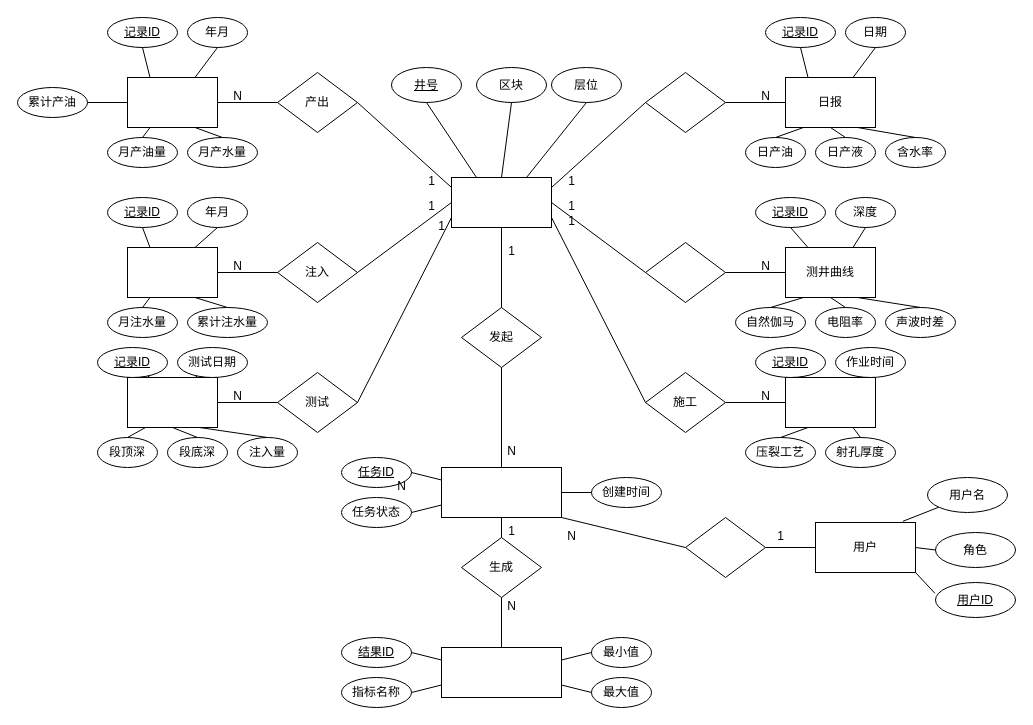
Image size: 1033x725. Some labels were removed from this diagram. The shapes that lost their labels are listed below. From the top down, each one's centre as x and y in pixels, then its label:
the point at 172,102: 油井月报
the point at 685,102: 生产
the point at 501,202: 井位信息
the point at 172,272: 水井月报
the point at 685,272: 测井
the point at 172,402: 剖面数据
the point at 830,402: 作业信息
the point at 501,492: 预测任务
the point at 725,547: 操作
the point at 501,672: 预测结果
